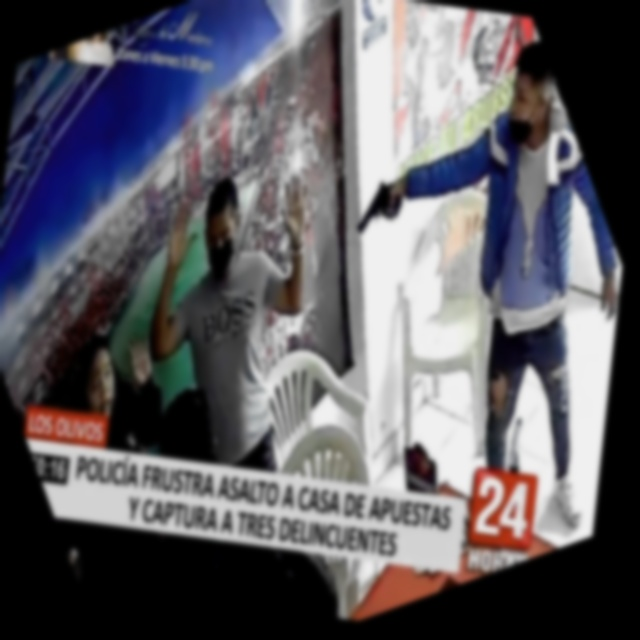gun: (322, 144, 434, 270)
